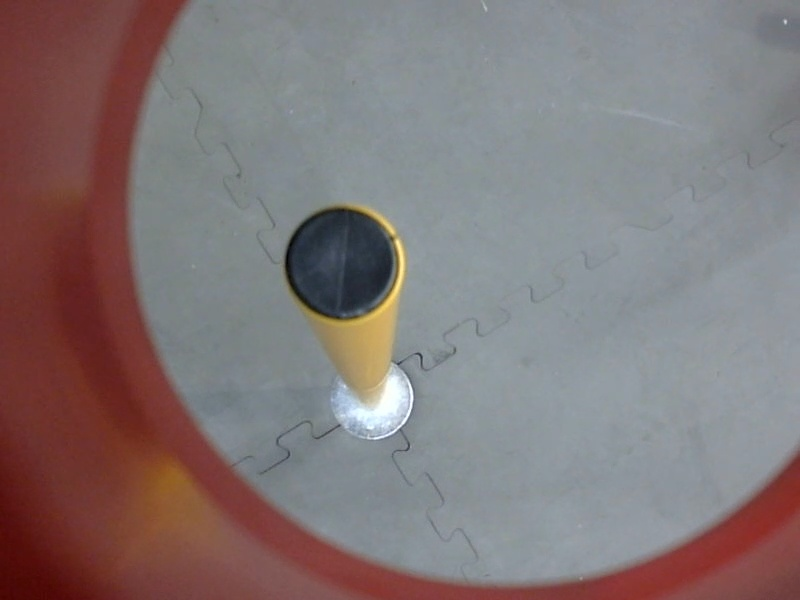tip: (275, 196, 414, 334)
